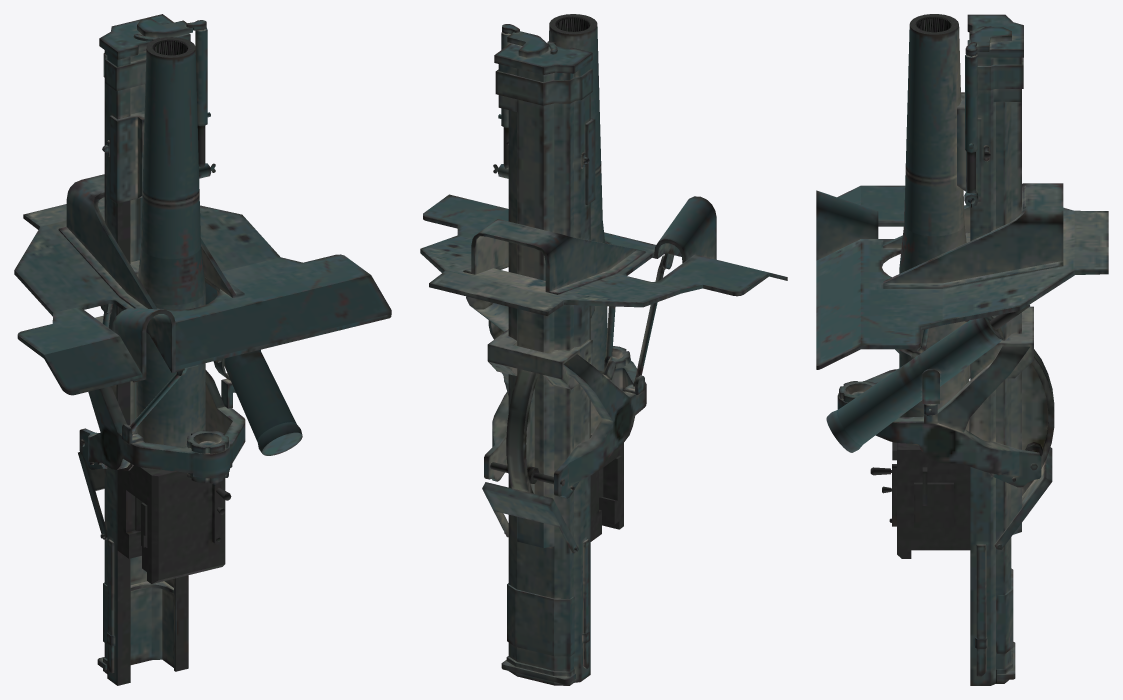
File: Gun_01.glb
3 views of the same model, side by side, from view 1: azimuth 30°, elevation 25°; view 2: azimuth 150°, elevation 25°; view 3: azimuth 270°, elevation 25° (orthographic). The views are drawn at different scales.
Parts seen in each view (by area): view 1: set_0_group_0, set_0_group_1; view 2: set_0_group_0, set_0_group_1; view 3: set_0_group_0, set_0_group_1.
Part boxes in pixels (left/top/right/bottom): set_0_group_0: left=14, top=14, right=391, bottom=685; set_0_group_1: left=205, top=282, right=302, bottom=455; set_0_group_0: left=420, top=14, right=787, bottom=685; set_0_group_1: left=466, top=296, right=508, bottom=339; set_0_group_0: left=816, top=14, right=1108, bottom=685; set_0_group_1: left=826, top=305, right=1029, bottom=452.
Size of the model in its own units: 1.17 by 2.19 by 0.902.
2 materials, 2 textured.
